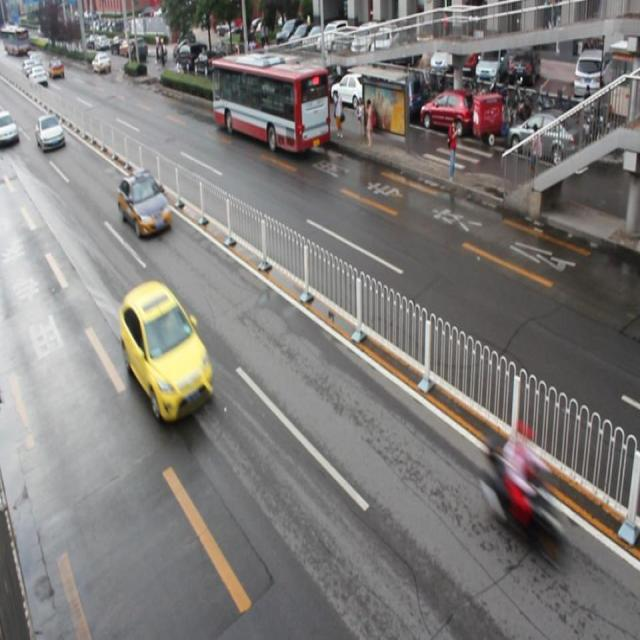car: (119, 278, 214, 422), (117, 168, 172, 238)
van: (212, 55, 328, 154)
